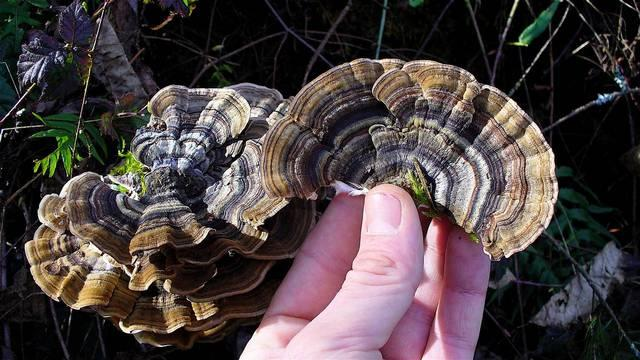Non-edible Mushroom: (24, 56, 559, 350), (258, 56, 559, 262)
